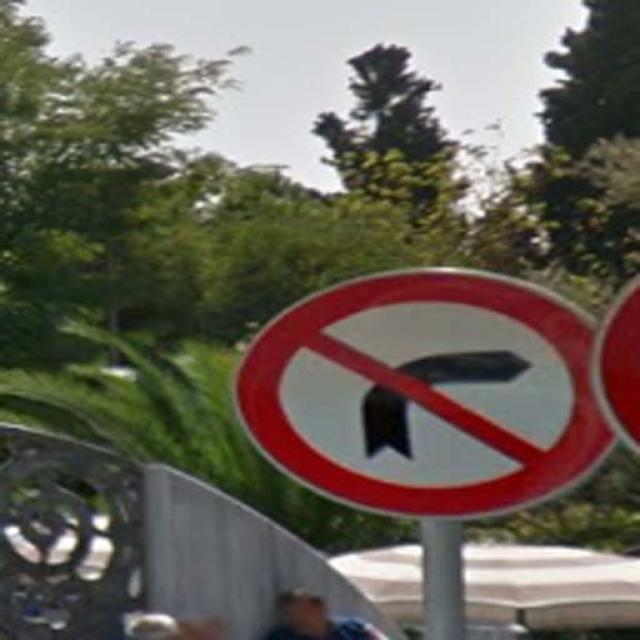sagadonulmez: (250, 270, 590, 500)
